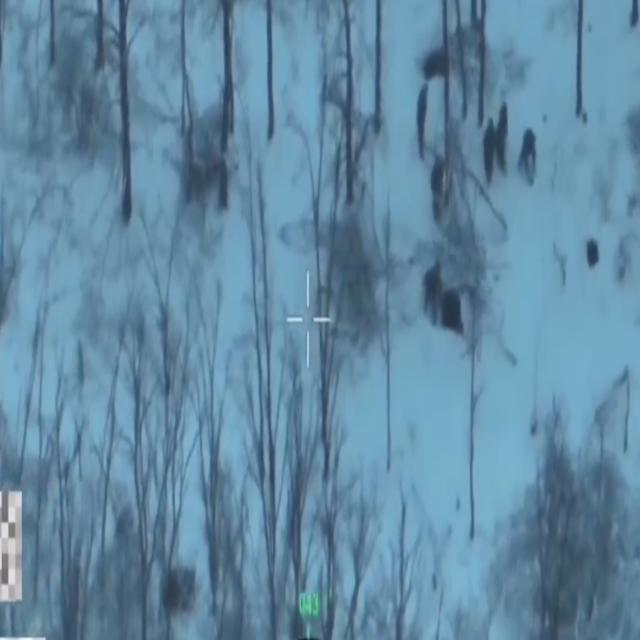infantry: (520, 118, 539, 188), (424, 252, 441, 323), (441, 286, 465, 334), (430, 152, 444, 222), (480, 115, 494, 183), (422, 42, 446, 80), (417, 80, 428, 160), (498, 106, 510, 172)
